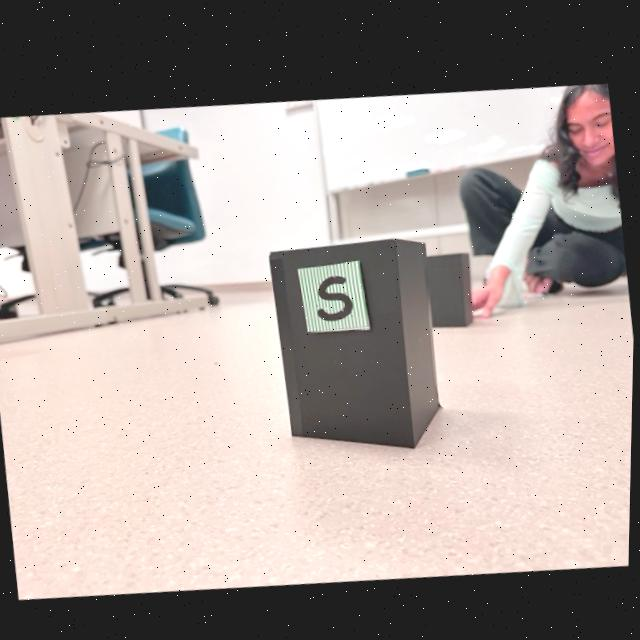S: (318, 271, 353, 315)
